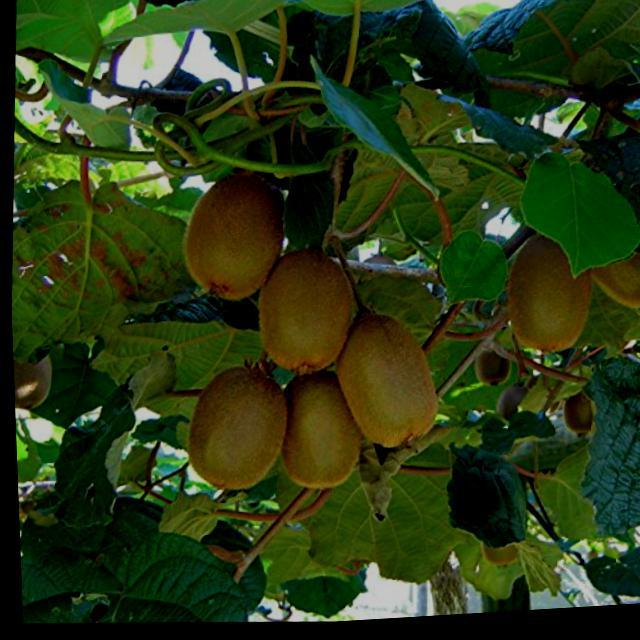kiwi: (328, 308, 447, 463), (173, 168, 291, 311), (246, 245, 360, 387), (178, 364, 292, 504), (265, 363, 367, 503), (497, 228, 596, 367), (573, 210, 640, 328), (10, 320, 57, 416), (468, 342, 515, 397), (557, 385, 599, 446)
